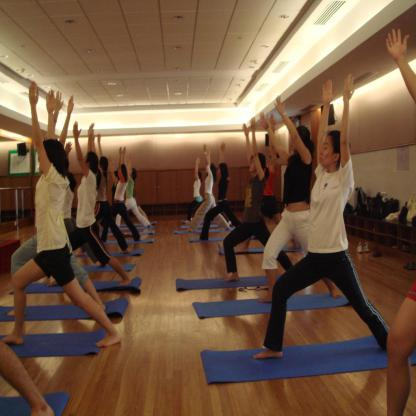face: (320, 137, 334, 167), (39, 149, 47, 174), (292, 134, 301, 151), (250, 156, 258, 172), (83, 156, 88, 173), (270, 144, 275, 156)
